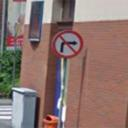NoVirarDireita: (49, 27, 86, 60)
